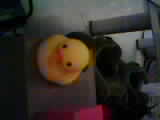duck: (32, 33, 97, 88)
